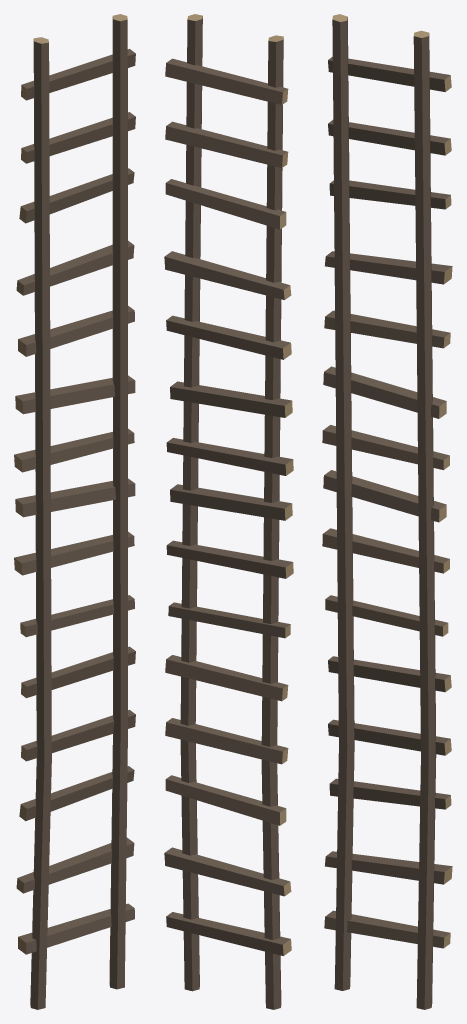
File: deck_ladder.glb
3 views of the same model, side by side, from view 1: azimuth 30°, elevation 25°; view 2: azimuth 150°, elevation 25°; view 3: azimuth 330°, elevation 25° (orthographic).
Parts seen in each view (by area): view 1: SM_Prop_Ladder_01; view 2: SM_Prop_Ladder_01; view 3: SM_Prop_Ladder_01.
Boxes of the visible parts, <box> form: SM_Prop_Ladder_01: <box>14,14,135,1009</box>; SM_Prop_Ladder_01: <box>164,14,293,1009</box>; SM_Prop_Ladder_01: <box>322,14,452,1009</box>.
Bounding box in the file's own units: 0.7058 × 5.55 × 0.1784.
Materials: 1 (1 with a texture image).
